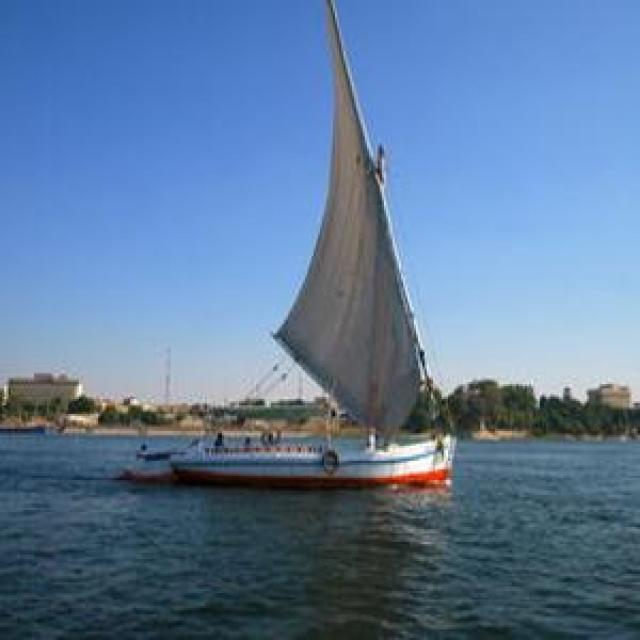sailboat: (130, 0, 460, 485)
